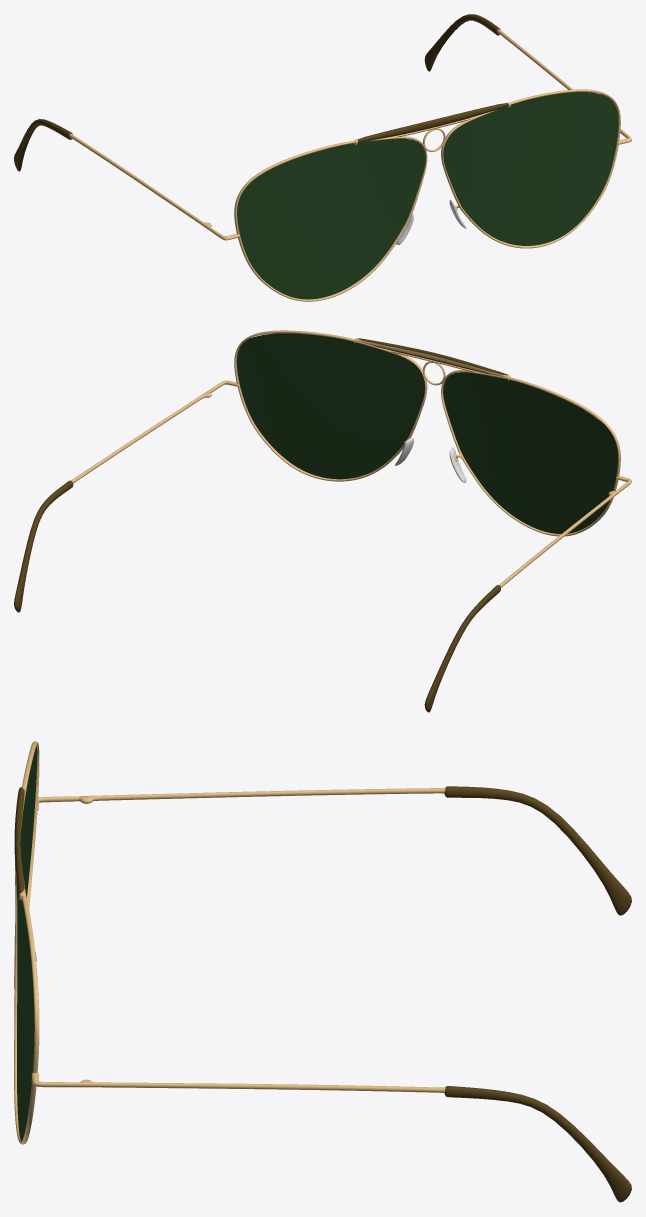
The model's file is rayban.fbx.
3 renders of one model, top to bottom at view 1: azimuth 30°, elevation 25°; view 2: azimuth 150°, elevation 25°; view 3: azimuth 270°, elevation 25°, orthographic. The views are drawn at different scales.
Parts seen in each view (by area): view 1: Cube.008, Cube.006, Cube.009, Cube.003; view 2: Cube.008, Cube.009, Cube.006, Cube.003; view 3: Cube.009, Cube.008, Cube.006, Cube.003.
Part boxes in pixels (x1,y1,x2,y2): Cube.008: (237, 92, 618, 299); Cube.006: (234, 89, 620, 301); Cube.009: (14, 14, 631, 240); Cube.003: (354, 102, 510, 144); Cube.008: (236, 333, 617, 533); Cube.009: (14, 380, 631, 712); Cube.006: (234, 330, 620, 536); Cube.003: (354, 338, 510, 380); Cube.009: (31, 786, 631, 1202); Cube.008: (17, 746, 36, 1140); Cube.006: (14, 741, 39, 1144); Cube.003: (14, 786, 25, 900).
Size of the model in its own units: 132 by 45.17 by 113.
